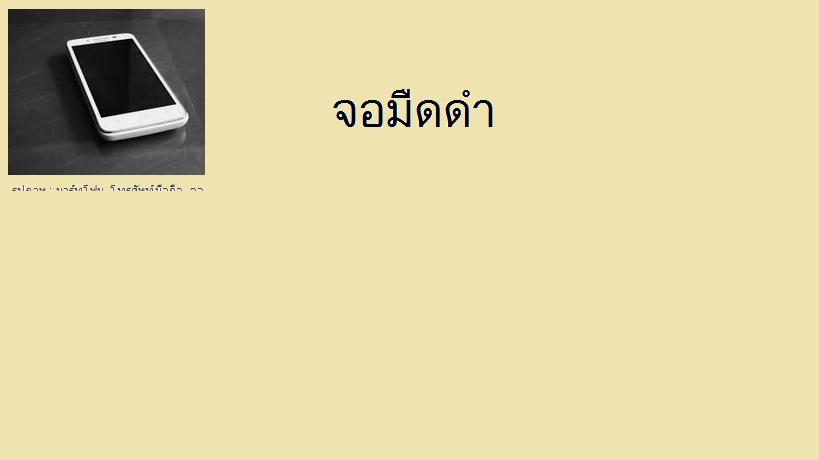phone: (61, 25, 190, 146)
